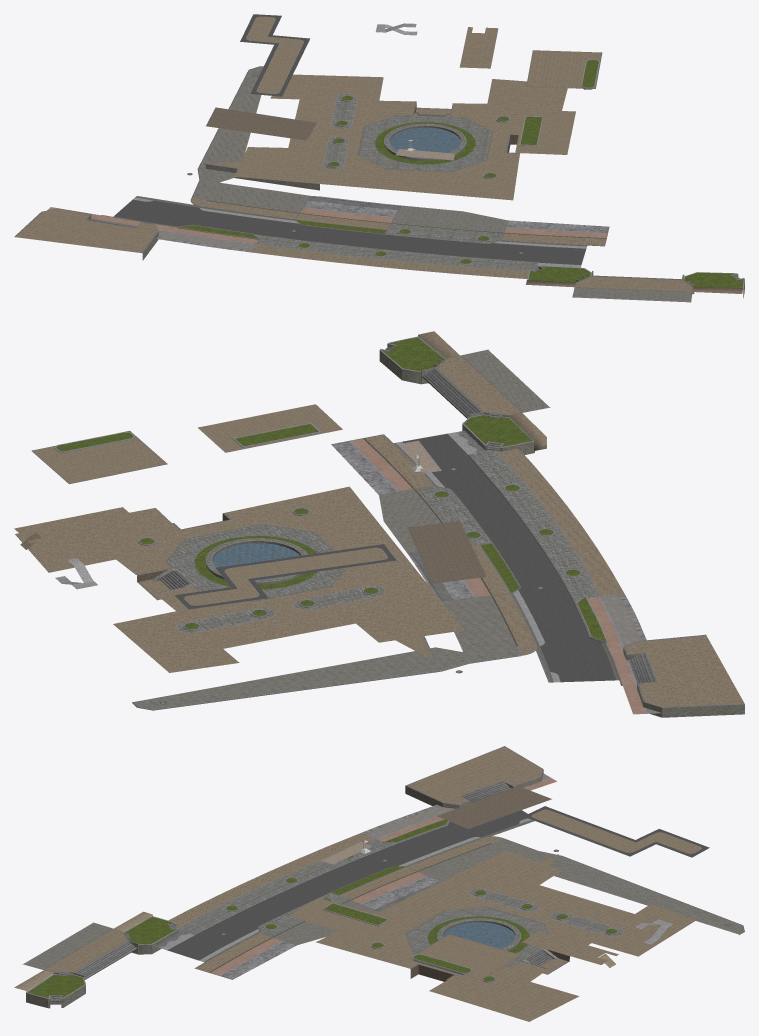
The picture shows the model from 3 angles, top to bottom: view 1: azimuth 30°, elevation 25°; view 2: azimuth 150°, elevation 25°; view 3: azimuth 270°, elevation 25°; orthographic projection. The views are drawn at different scales.
Visible parts, largest first — view 1: nomerge_t1_g01_1_model_mesh, um_t1_g01_1_model_t1_g01_1_modelShape; view 2: nomerge_t1_g01_1_model_mesh, um_t1_g01_1_model_t1_g01_1_modelShape; view 3: nomerge_t1_g01_1_model_mesh, um_t1_g01_1_model_t1_g01_1_modelShape.
Part boxes in pixels (x1=…): nomerge_t1_g01_1_model_mesh: x1=14, y1=14, x2=744, y2=302; um_t1_g01_1_model_t1_g01_1_modelShape: x1=187, y1=74, x2=567, y2=253; nomerge_t1_g01_1_model_mesh: x1=14, y1=331, x2=744, y2=717; um_t1_g01_1_model_t1_g01_1_modelShape: x1=15, y1=455, x2=543, y2=704; nomerge_t1_g01_1_model_mesh: x1=14, y1=746, x2=744, y2=1008; um_t1_g01_1_model_t1_g01_1_modelShape: x1=220, y1=840, x2=730, y2=1021.
Bounding box in the file's own units: 166 × 21.52 × 179.
Materials: 17 (17 with a texture image).
